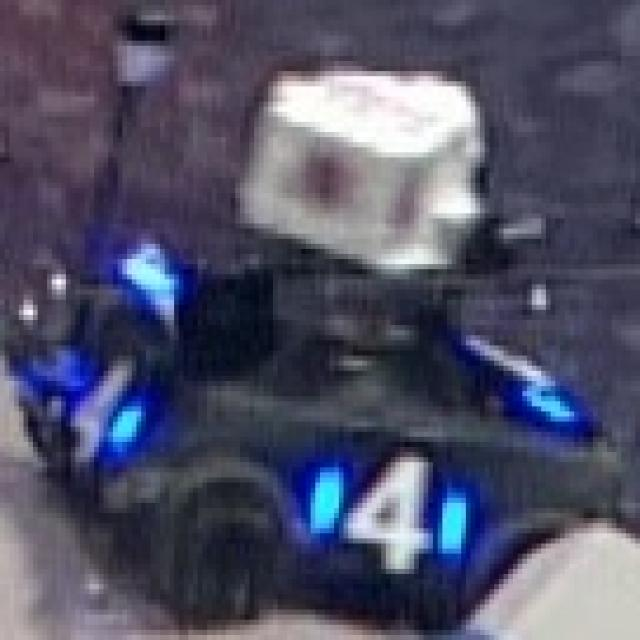B4: (301, 447, 471, 574), (56, 346, 150, 468)
